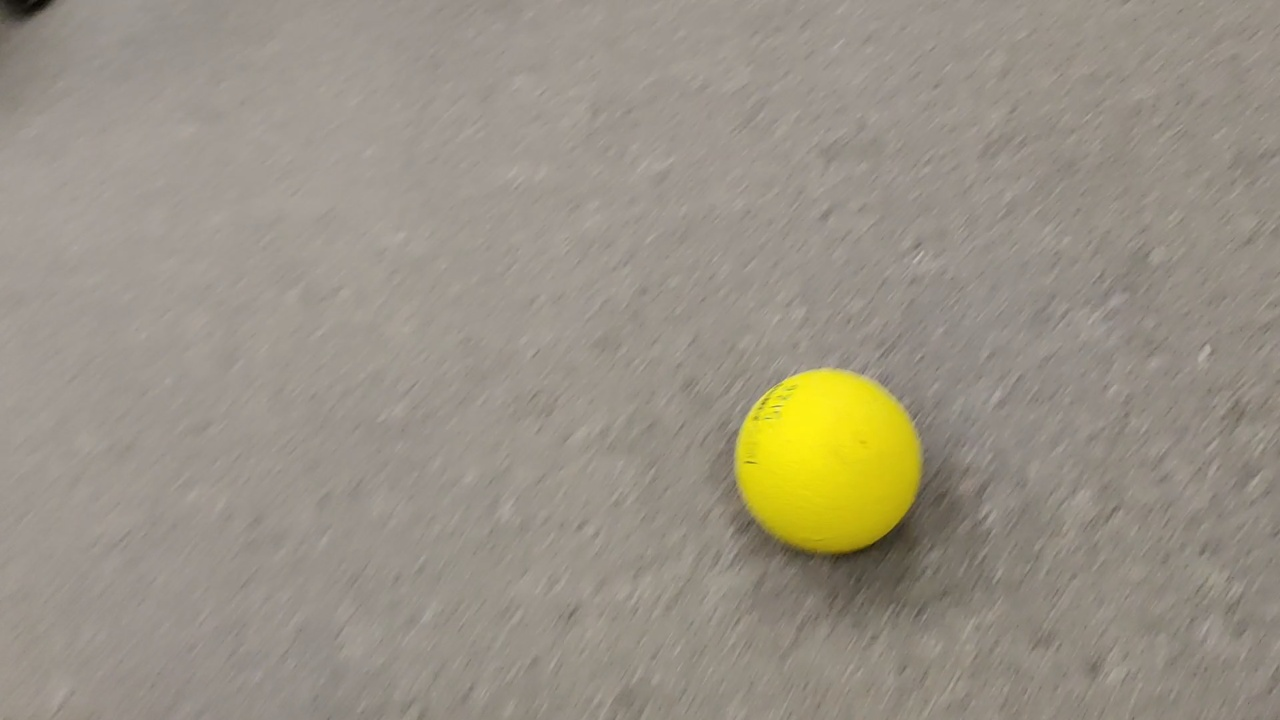Ball: (735, 368, 924, 552)
